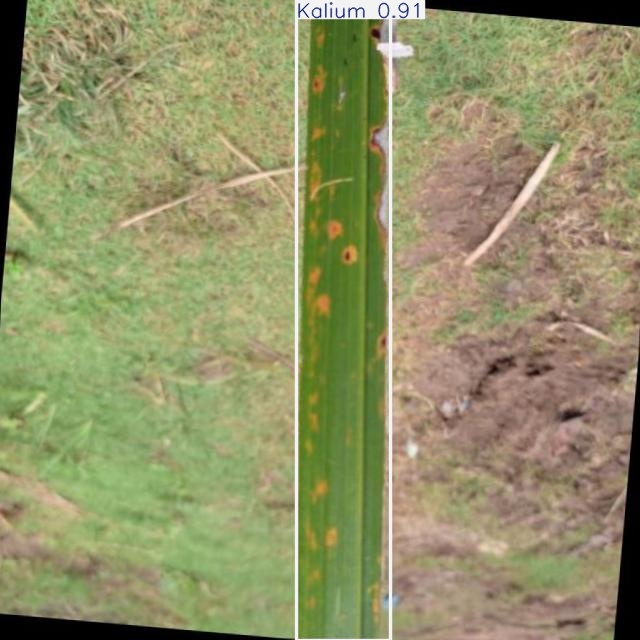Kalium: (297, 0, 390, 640)
